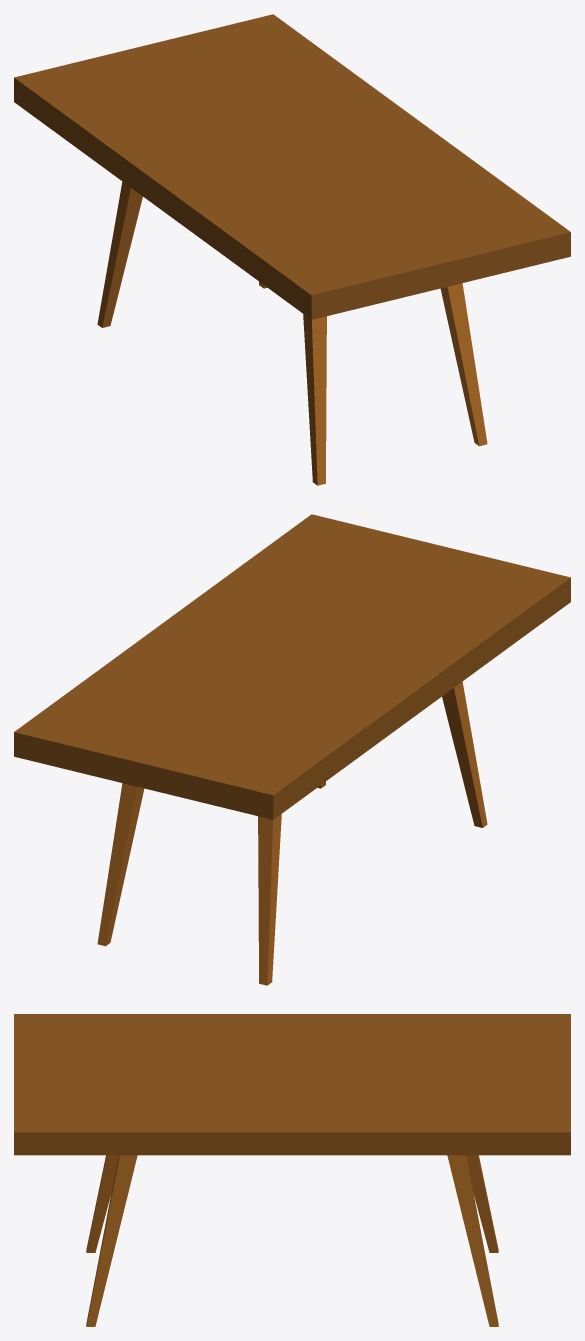
File: table.fbx
The picture shows the model from 3 angles, top to bottom: view 1: azimuth 30°, elevation 25°; view 2: azimuth 150°, elevation 25°; view 3: azimuth 270°, elevation 25°; orthographic projection. The views are drawn at different scales.
Parts seen in each view (by area): view 1: Cube; view 2: Cube; view 3: Cube.
Boxes of the visible parts, x1,y1,x2,y2 form: Cube: (14, 14, 570, 485); Cube: (14, 514, 570, 985); Cube: (14, 1014, 570, 1326).
Bounding box in the file's own units: 100 × 85 × 200.
